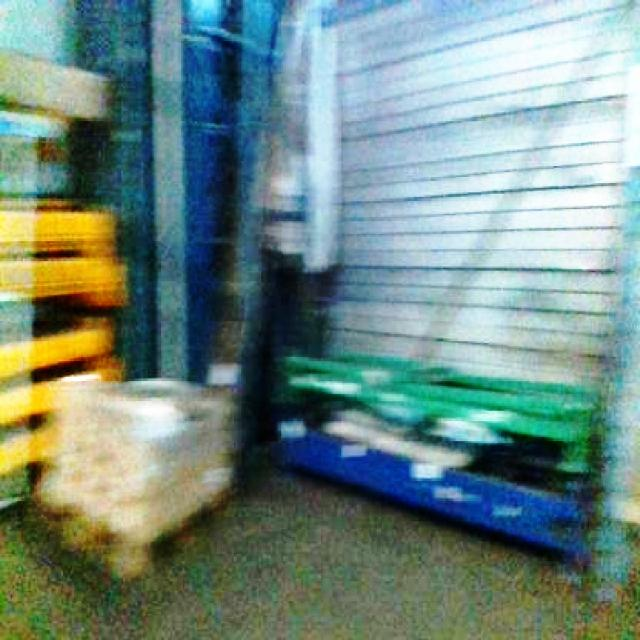ground: (0, 442, 638, 638)
pallet: (269, 348, 605, 571), (0, 31, 131, 537), (43, 362, 243, 595)
